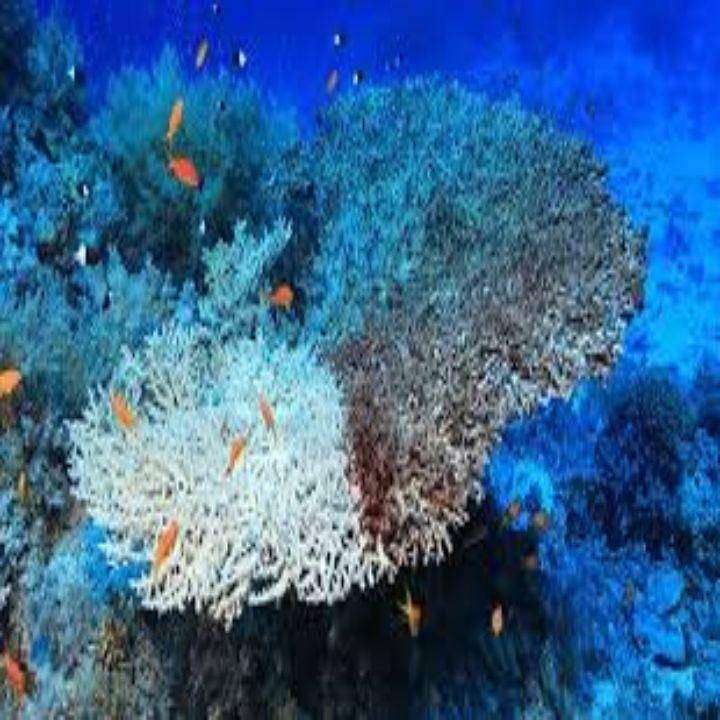Bleached-disease: (38, 287, 395, 662)
